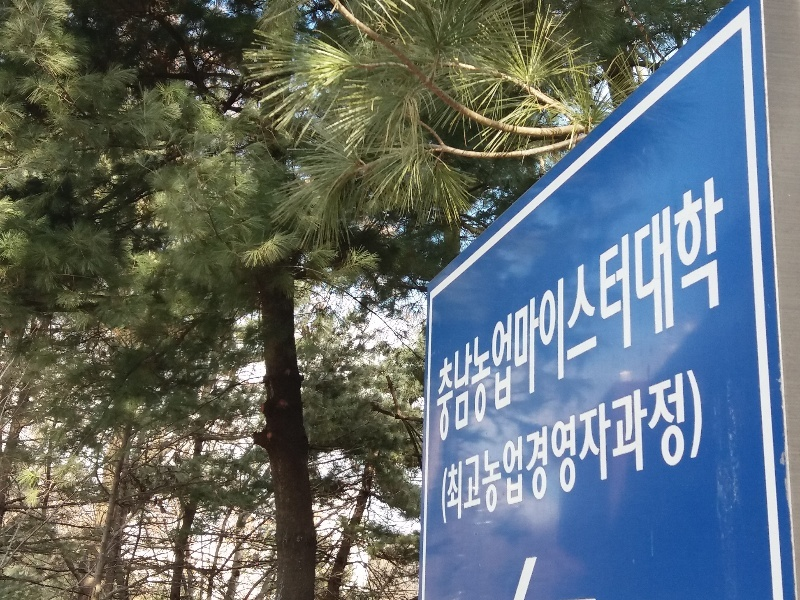text: (449, 162, 464, 449), (465, 162, 480, 449), (481, 162, 496, 449), (497, 162, 512, 449), (513, 162, 528, 449), (529, 162, 544, 449), (545, 162, 560, 449), (561, 162, 576, 449), (577, 162, 592, 449), (593, 162, 608, 449), (609, 162, 624, 449), (625, 162, 640, 449), (641, 162, 656, 449), (657, 162, 672, 449), (673, 162, 688, 449), (689, 162, 704, 449), (705, 162, 720, 449), (435, 162, 448, 449), (721, 162, 732, 449), (449, 363, 464, 531), (465, 363, 480, 531), (481, 363, 496, 531), (497, 363, 512, 531), (513, 363, 528, 531), (529, 363, 544, 531), (545, 363, 560, 531), (561, 363, 576, 531), (577, 363, 592, 531), (593, 363, 608, 531), (609, 363, 624, 531), (625, 363, 640, 531), (641, 363, 656, 531), (657, 363, 672, 531), (673, 363, 688, 531), (689, 363, 704, 531), (437, 363, 448, 531), (705, 363, 708, 531)
